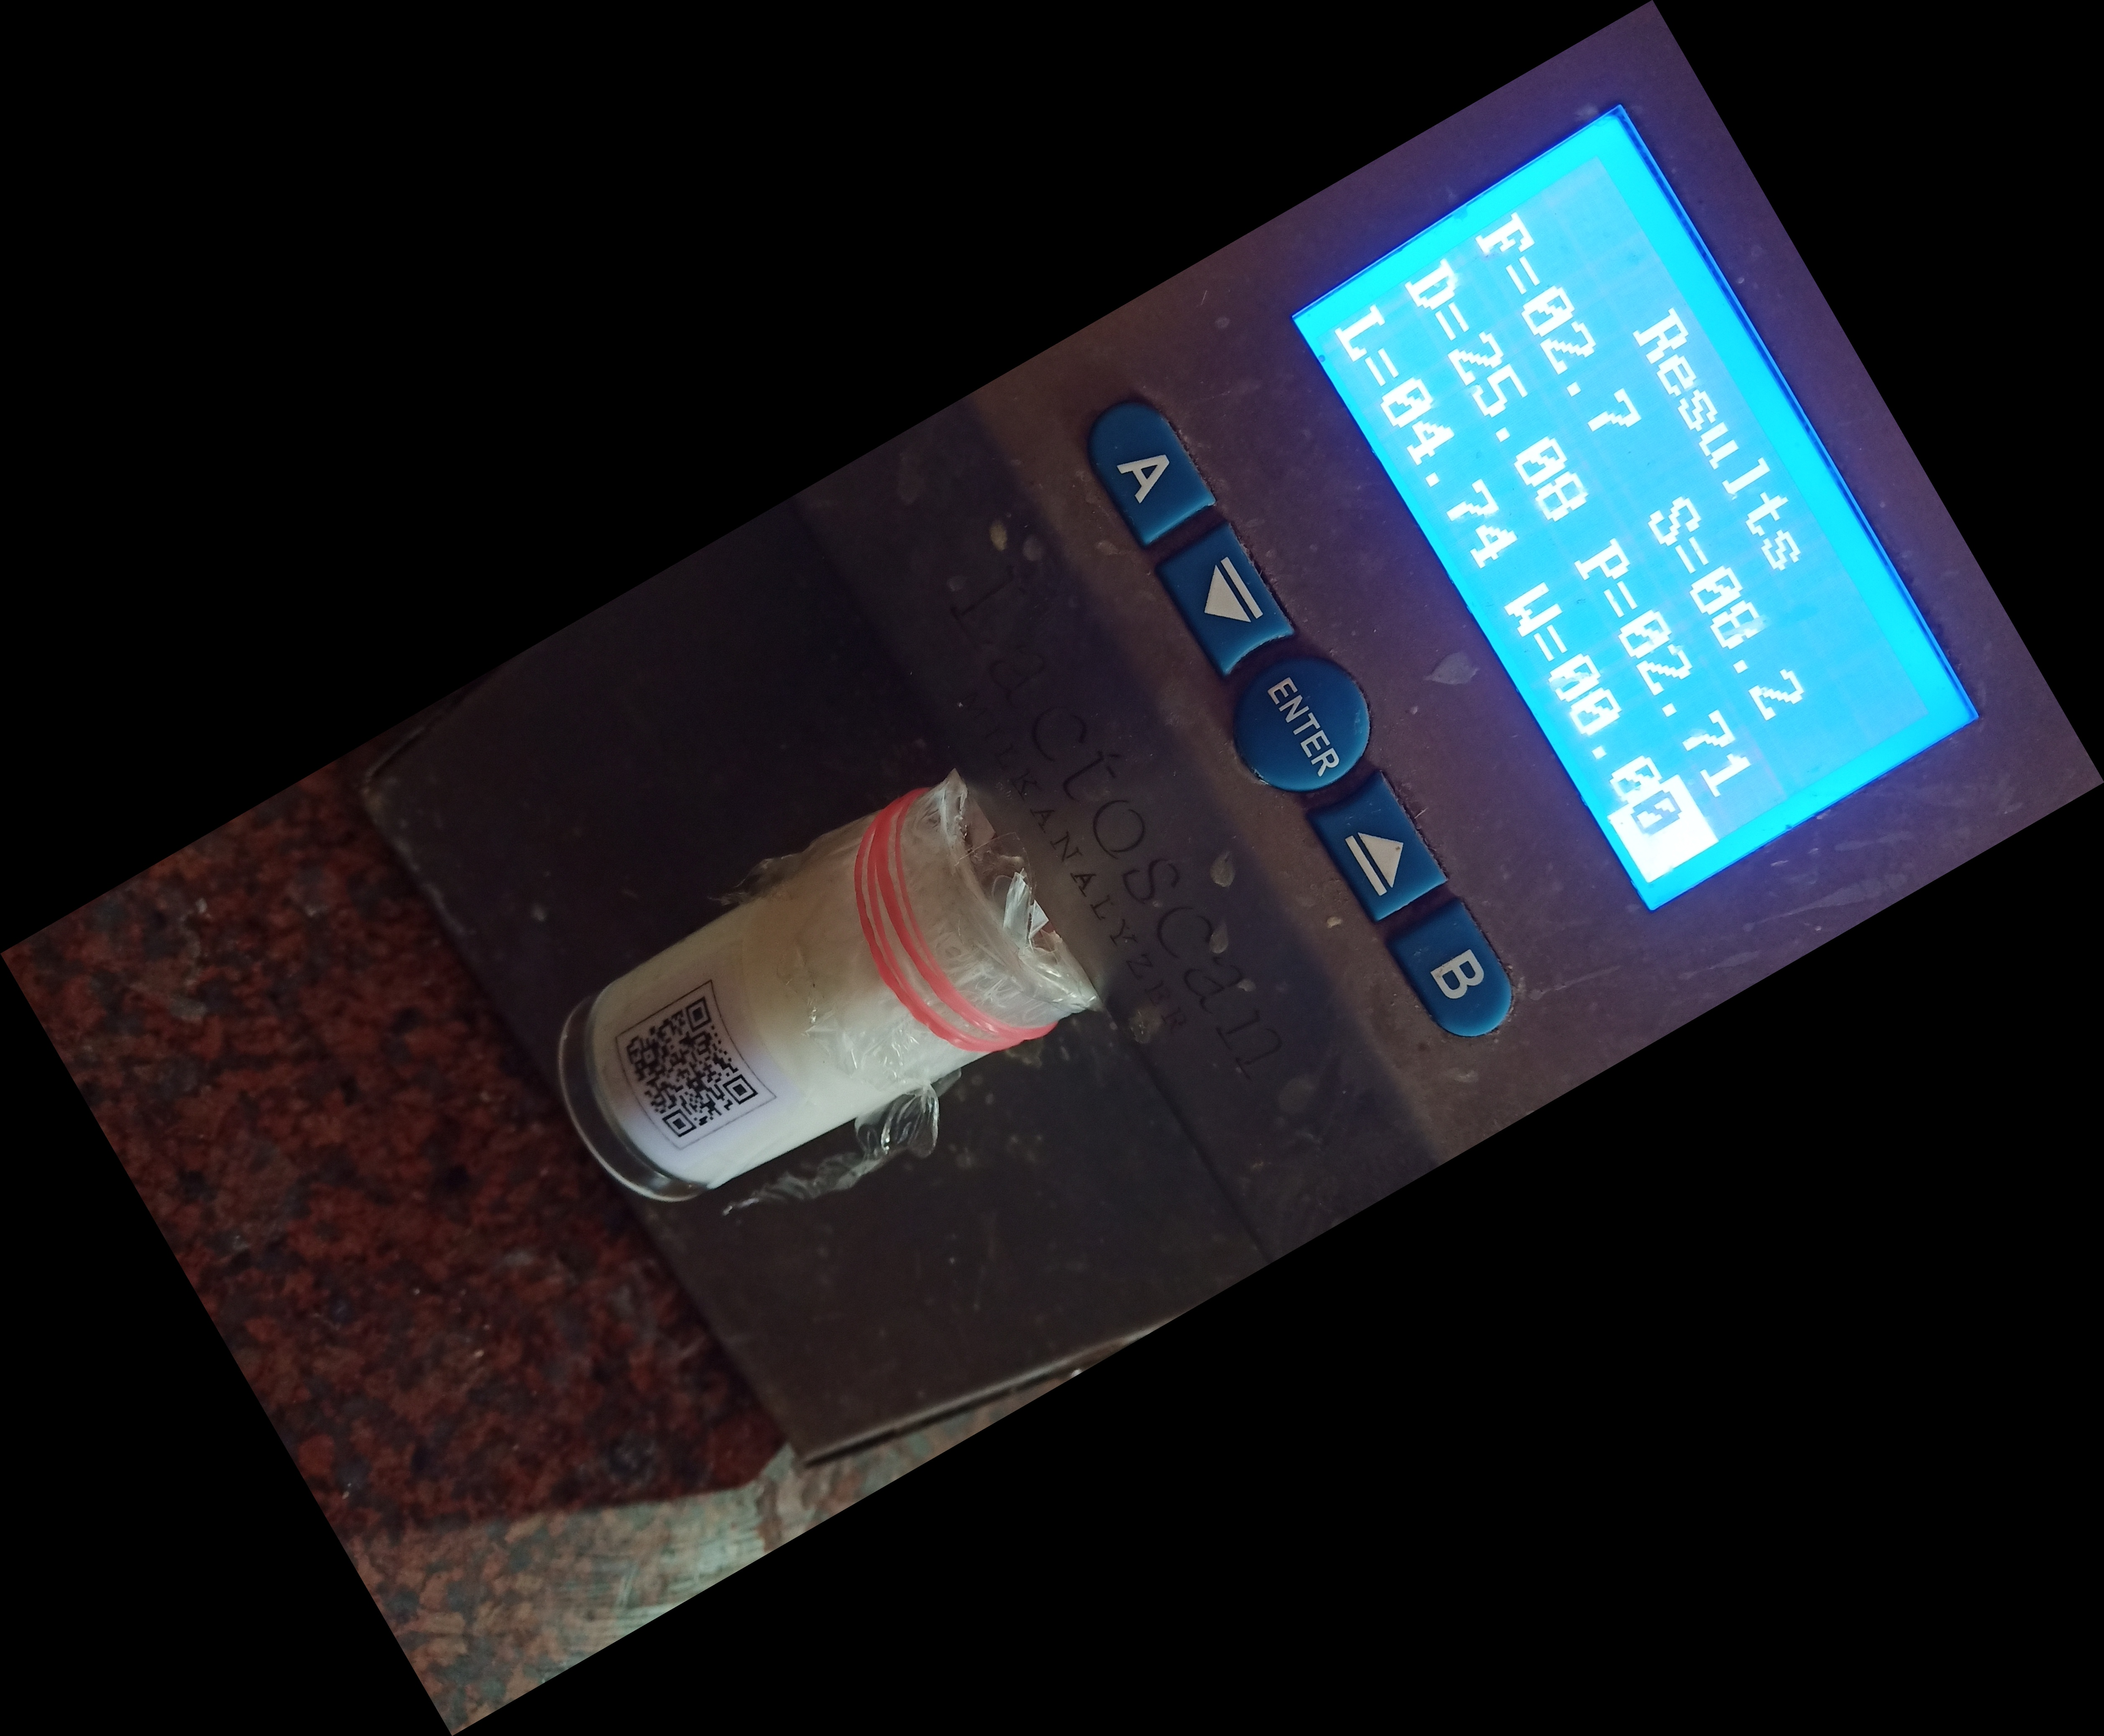lcd: (1267, 70, 2001, 912)
qr: (612, 961, 788, 1153)
